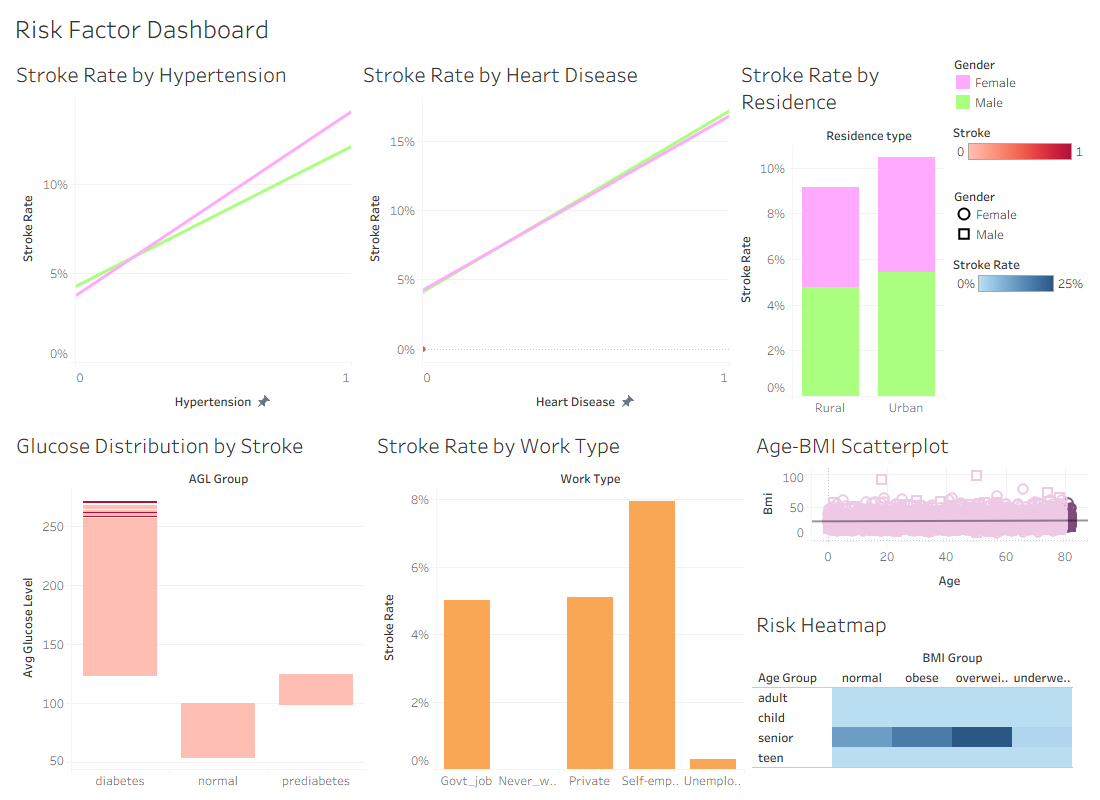

Layout of this report page (visuals, bound fields, positions):
{"tool":"tableau","page":{"name":"Risk Factor Interaction Dashboard","canvas":[1100,800],"ordinal":1},"visuals":[{"type":"title","box":[8,8,1084,42]},{"type":"worksheet","title":"Hypertension","mark":"Automatic","rows":["Calculation_1986320430374912"],"cols":["hypertension"],"box":[8,50,347,371]},{"type":"worksheet","title":"Heart Disease","mark":"Automatic","rows":["Calculation_1986320430374912"],"cols":["heart_disease"],"box":[355,50,378,371]},{"type":"worksheet","title":"Residence Type","mark":"Automatic","rows":["Calculation_1986320430374912"],"cols":["Residence_type"],"box":[733,50,216.1,371]},{"type":"legend","title":"Hypertension","param":"[federated.10qjnpo0r55dbr1b9iq5r0t43aa0].[none:gender:nk]","box":[949,50,143,66]},{"type":"legend","title":"Glucose Levels","param":"[federated.10qjnpo0r55dbr1b9iq5r0t43aa0].[none:stroke:qk]","box":[949,116,143,65]},{"type":"legend","title":"Age-BMI","param":"[federated.10qjnpo0r55dbr1b9iq5r0t43aa0].[none:gender:nk]","box":[949,181,143,66]},{"type":"legend","title":"Risk Heatmap","param":"[federated.10qjnpo0r55dbr1b9iq5r0t43aa0].[usr:Calculation_1986320430374912:qk]","box":[949,247,143,49]},{"type":"worksheet","title":"Glucose Levels","mark":"Automatic","rows":["avg_glucose_level"],"cols":["AGLGroup"],"box":[8,421,361.3,371]},{"type":"worksheet","title":"Work type","mark":"Automatic","rows":["Calculation_1986320430374912"],"cols":["work_type"],"box":[369.3,421,378.7,371]},{"type":"worksheet","title":"Age-BMI","mark":"Automatic","rows":["bmi"],"cols":["age"],"box":[748,421,344,179]},{"type":"worksheet","title":"Risk Heatmap","mark":"Square","rows":["AgeGroup"],"cols":["BMIGroup"],"box":[748,600,344,192]}]}

Visuals, with their boxes in screenshot pixels (x1, y1, x2, y2), scaled from the page's 1100x800 canvas onto the 1100x800 screenshot:
title: l=8, t=8, r=1092, b=50
"Hypertension" worksheet: l=8, t=50, r=355, b=421
"Heart Disease" worksheet: l=355, t=50, r=733, b=421
"Residence Type" worksheet: l=733, t=50, r=949, b=421
"Hypertension" legend: l=949, t=50, r=1092, b=116
"Glucose Levels" legend: l=949, t=116, r=1092, b=181
"Age-BMI" legend: l=949, t=181, r=1092, b=247
"Risk Heatmap" legend: l=949, t=247, r=1092, b=296
"Glucose Levels" worksheet: l=8, t=421, r=369, b=792
"Work type" worksheet: l=369, t=421, r=748, b=792
"Age-BMI" worksheet: l=748, t=421, r=1092, b=600
"Risk Heatmap" worksheet (Square marks): l=748, t=600, r=1092, b=792
